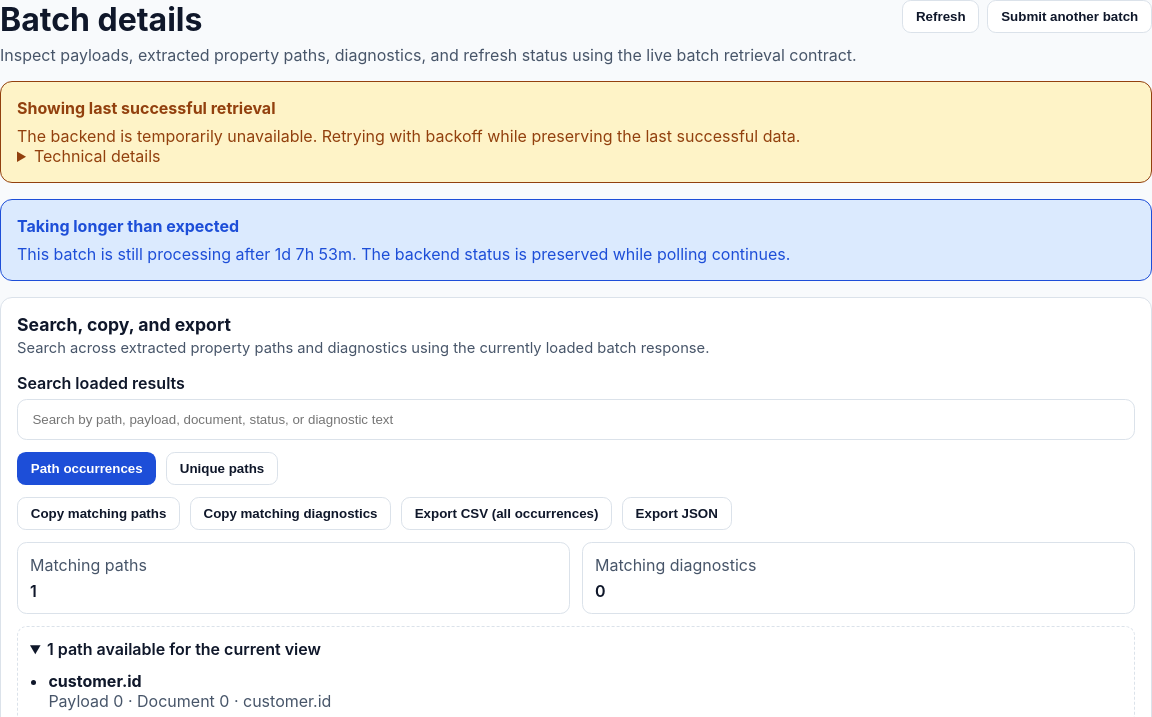
Test case: BatchDetailsPage › preserves last successful data and allows manual refresh after transient polling failure
expect the heading "Showing last successful retrieval" is shown: met, box left=17, top=98, right=276, bottom=118
What coordinates should you click on to do the following:
click the button with aria-label "Refresh batch details"
I would click on:
 (941, 16)
Its box is left=902, top=0, right=979, bottom=33.
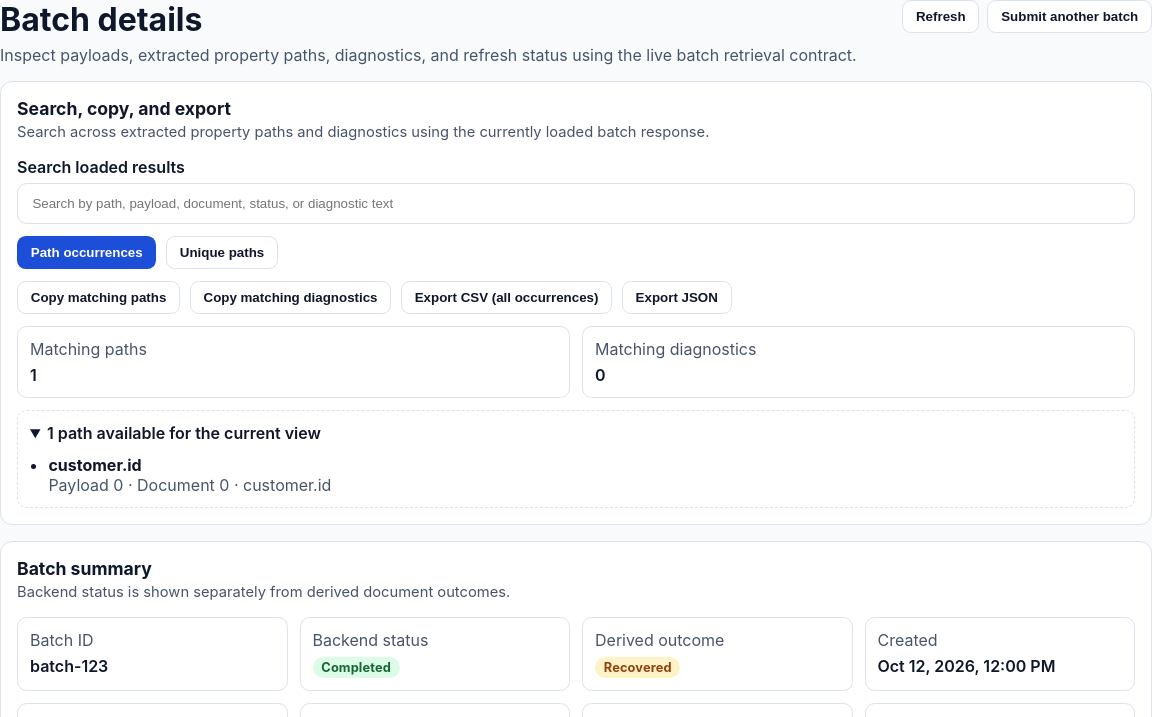
expect the heading "Showing last successful retrieval" is gone: met
